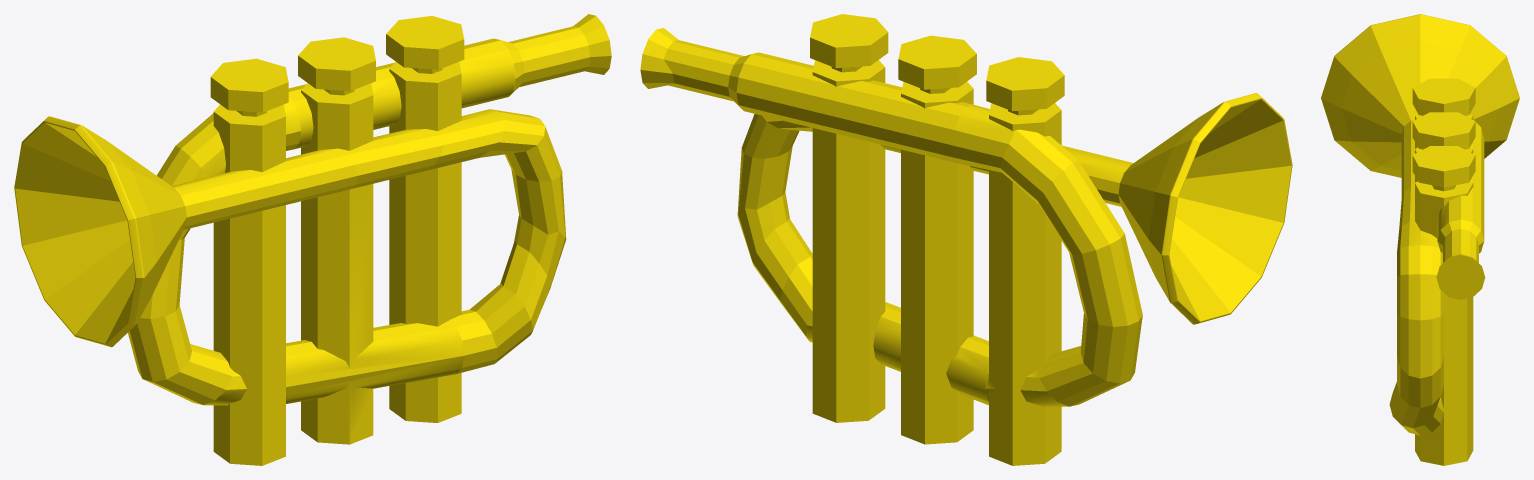
File: xiaohao.fbx
3 views of the same model, side by side, from view 1: azimuth 30°, elevation 25°; view 2: azimuth 150°, elevation 25°; view 3: azimuth 270°, elevation 25° (orthographic). The views are drawn at different scales.
Visible parts, largest first — view 1: xiaohao_group1_polySurface129; view 2: xiaohao_group1_polySurface129; view 3: xiaohao_group1_polySurface129.
Boxes of the visible parts, box(x1,y1,x2,y2) form: xiaohao_group1_polySurface129: box(14, 14, 611, 465); xiaohao_group1_polySurface129: box(640, 14, 1292, 465); xiaohao_group1_polySurface129: box(1321, 14, 1519, 465).
Bounding box in the file's own units: 3 × 1.2 × 2.
